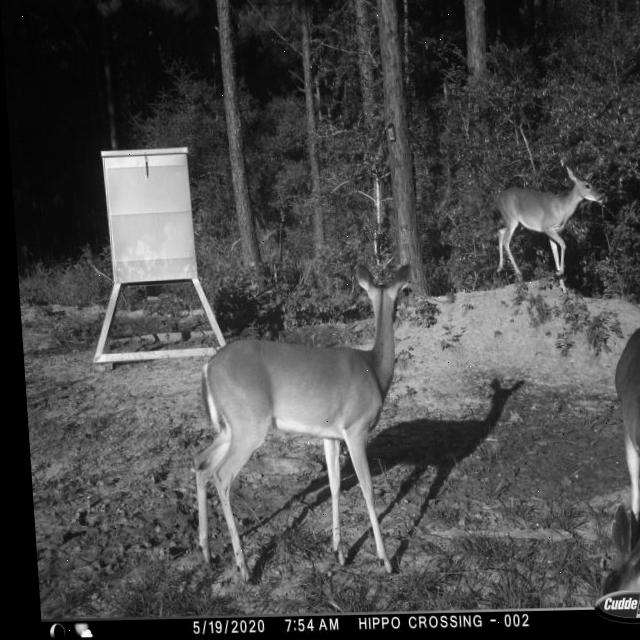Deer: (177, 258, 436, 581), (574, 316, 640, 592), (488, 164, 612, 292)
